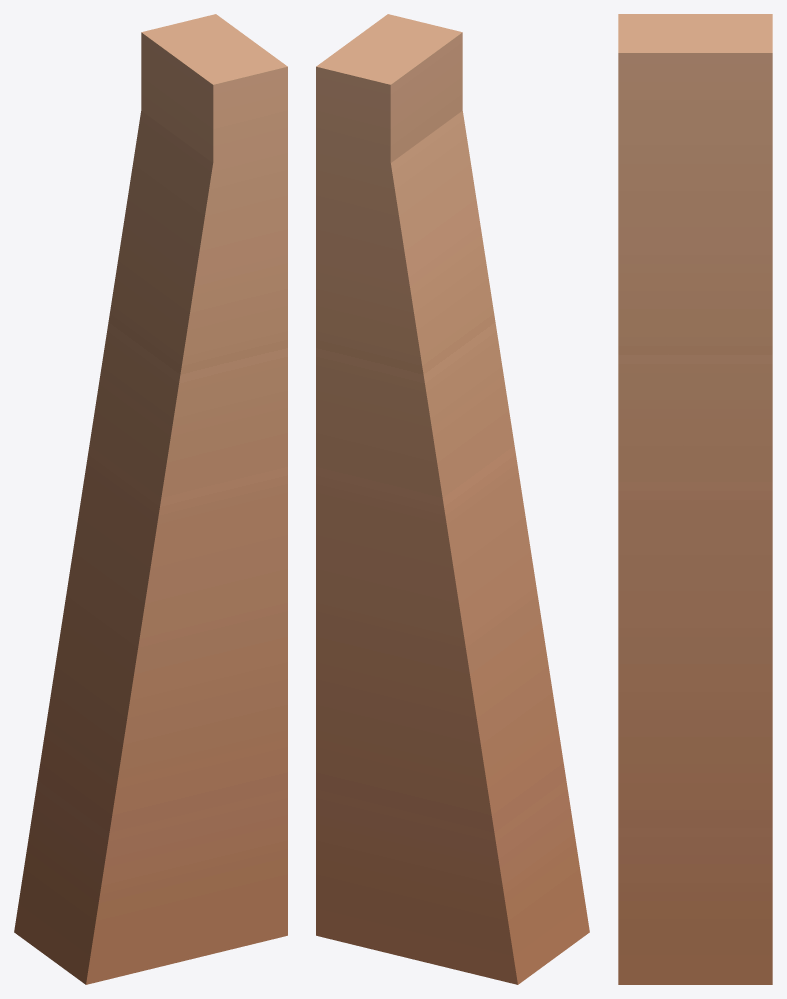
File: wall-stud.glb
The picture shows the model from 3 angles, left to right: view 1: azimuth 30°, elevation 25°; view 2: azimuth 150°, elevation 25°; view 3: azimuth 270°, elevation 25°; orthographic projection. The views are drawn at different scales.
Visible parts, largest first — view 1: wall-stud; view 2: wall-stud; view 3: wall-stud.
Part boxes in pixels (x1,y1,x2,y2): wall-stud: (14, 14, 287, 984); wall-stud: (316, 14, 589, 984); wall-stud: (618, 14, 772, 984).
Bounding box in the file's own units: 0.2699 × 1.11 × 0.1665.
1 material, 1 textured.
